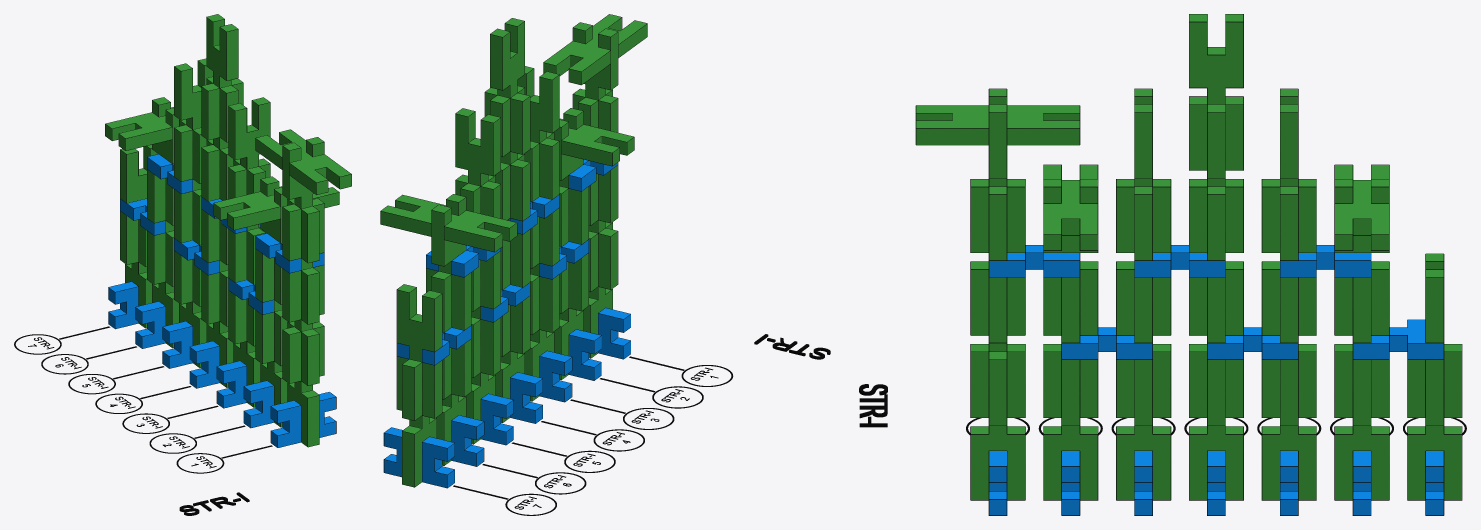
3 renders of one model, left to right at view 1: azimuth 30°, elevation 25°; view 2: azimuth 150°, elevation 25°; view 3: azimuth 270°, elevation 25°, orthographic. The views are drawn at different scales.
Visible parts, largest first — view 1: H_SIM (×28), X_SIM (×12); view 2: H_SIM (×28), X_SIM (×13); view 3: H_SIM (×28), X_SIM (×13).
Part boxes in pixels (bbox=[...]): H_SIM (×28): bbox=[105, 14, 351, 446]; X_SIM (×12): bbox=[108, 154, 335, 447]; H_SIM (×28): bbox=[380, 14, 647, 486]; X_SIM (×13): bbox=[384, 159, 630, 487]; H_SIM (×28): bbox=[916, 14, 1461, 499]; X_SIM (×13): bbox=[989, 245, 1443, 515].
Size of the model in its own units: 2.45 by 3.77 by 4.34.
